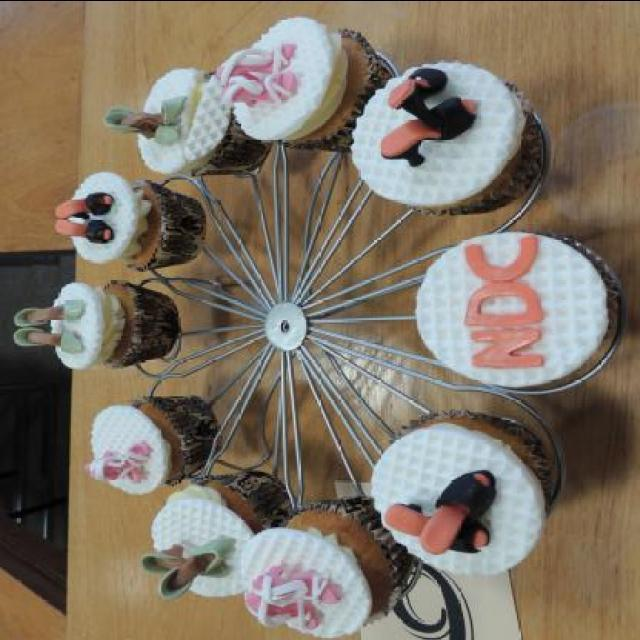Muffin: (11, 14, 622, 640)
